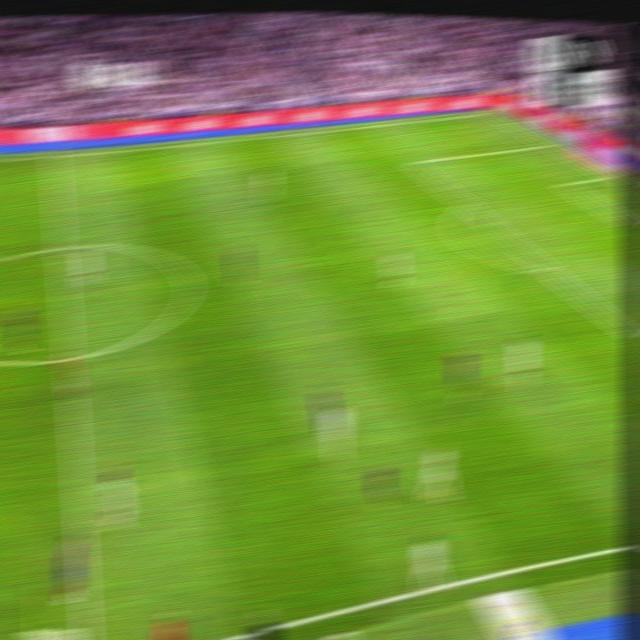bigarea_top_inner: (407, 155, 423, 169)
bigarea_top_outter: (543, 137, 559, 149)
bottom_arc_area_intersection: (538, 260, 556, 277)
corner: (484, 107, 502, 116)
halfcircle_bottom: (57, 346, 80, 369)
halfcircle_top: (50, 237, 71, 257)
midline_top_intersection: (45, 149, 64, 163)
smallarea_top_inner: (558, 180, 571, 188)
top_arc_area_intersection: (457, 196, 474, 211)
